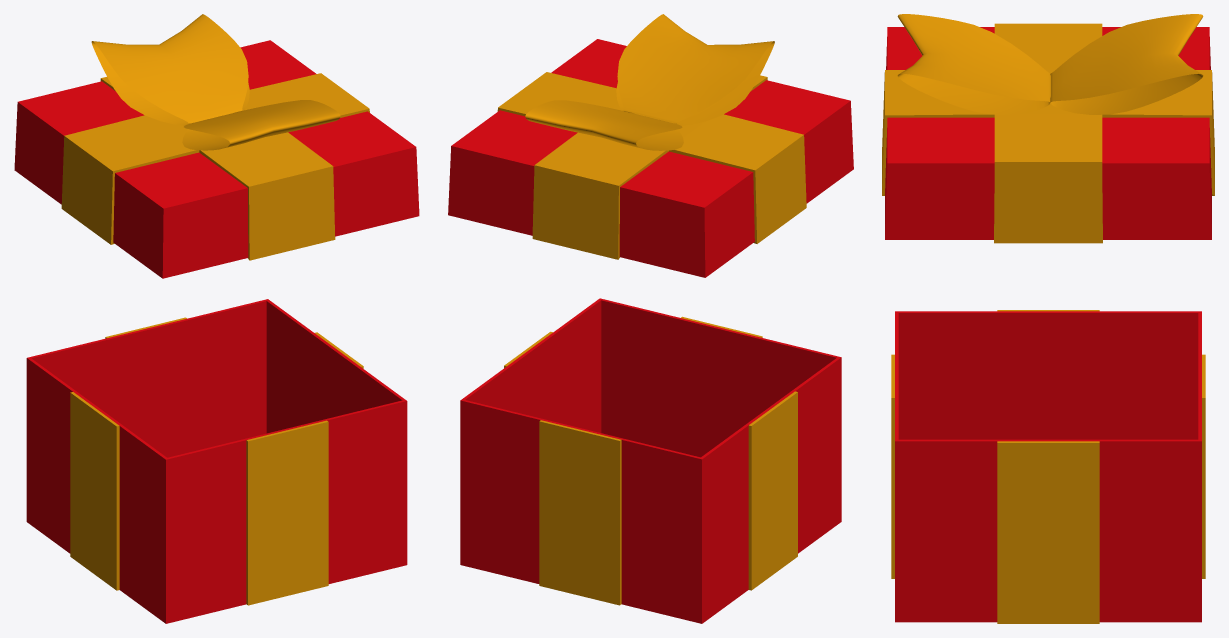
Rendered from Present.fbx.
3 views of the same model, side by side, from view 1: azimuth 30°, elevation 25°; view 2: azimuth 150°, elevation 25°; view 3: azimuth 270°, elevation 25° (orthographic). The views are drawn at different scales.
Parts seen in each view (by area): view 1: Cube, Cylinder; view 2: Cube, Cylinder; view 3: Cube, Cylinder.
Part boxes in pixels (x1,y1,x2,y2): Cube: [26, 299, 407, 623]; Cylinder: [14, 14, 419, 278]; Cube: [460, 298, 841, 623]; Cylinder: [448, 14, 853, 277]; Cube: [891, 310, 1205, 623]; Cylinder: [882, 14, 1214, 243].
Size of the model in its own units: 222 by 378 by 222.
